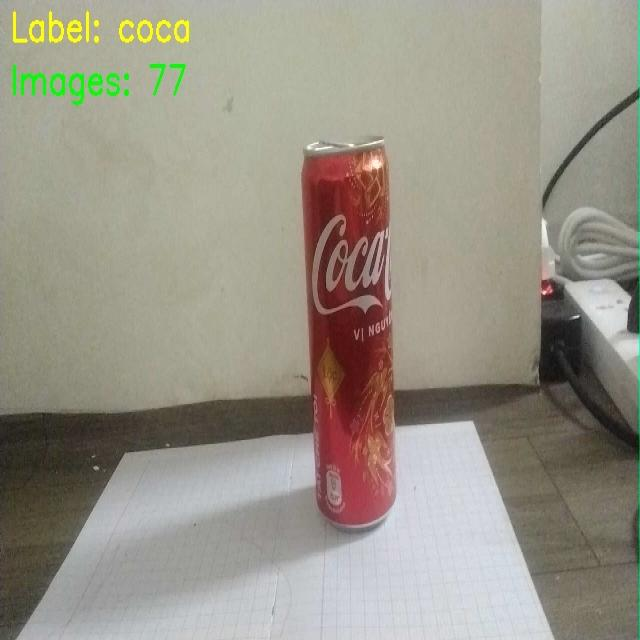Coca: (270, 125, 444, 578)
